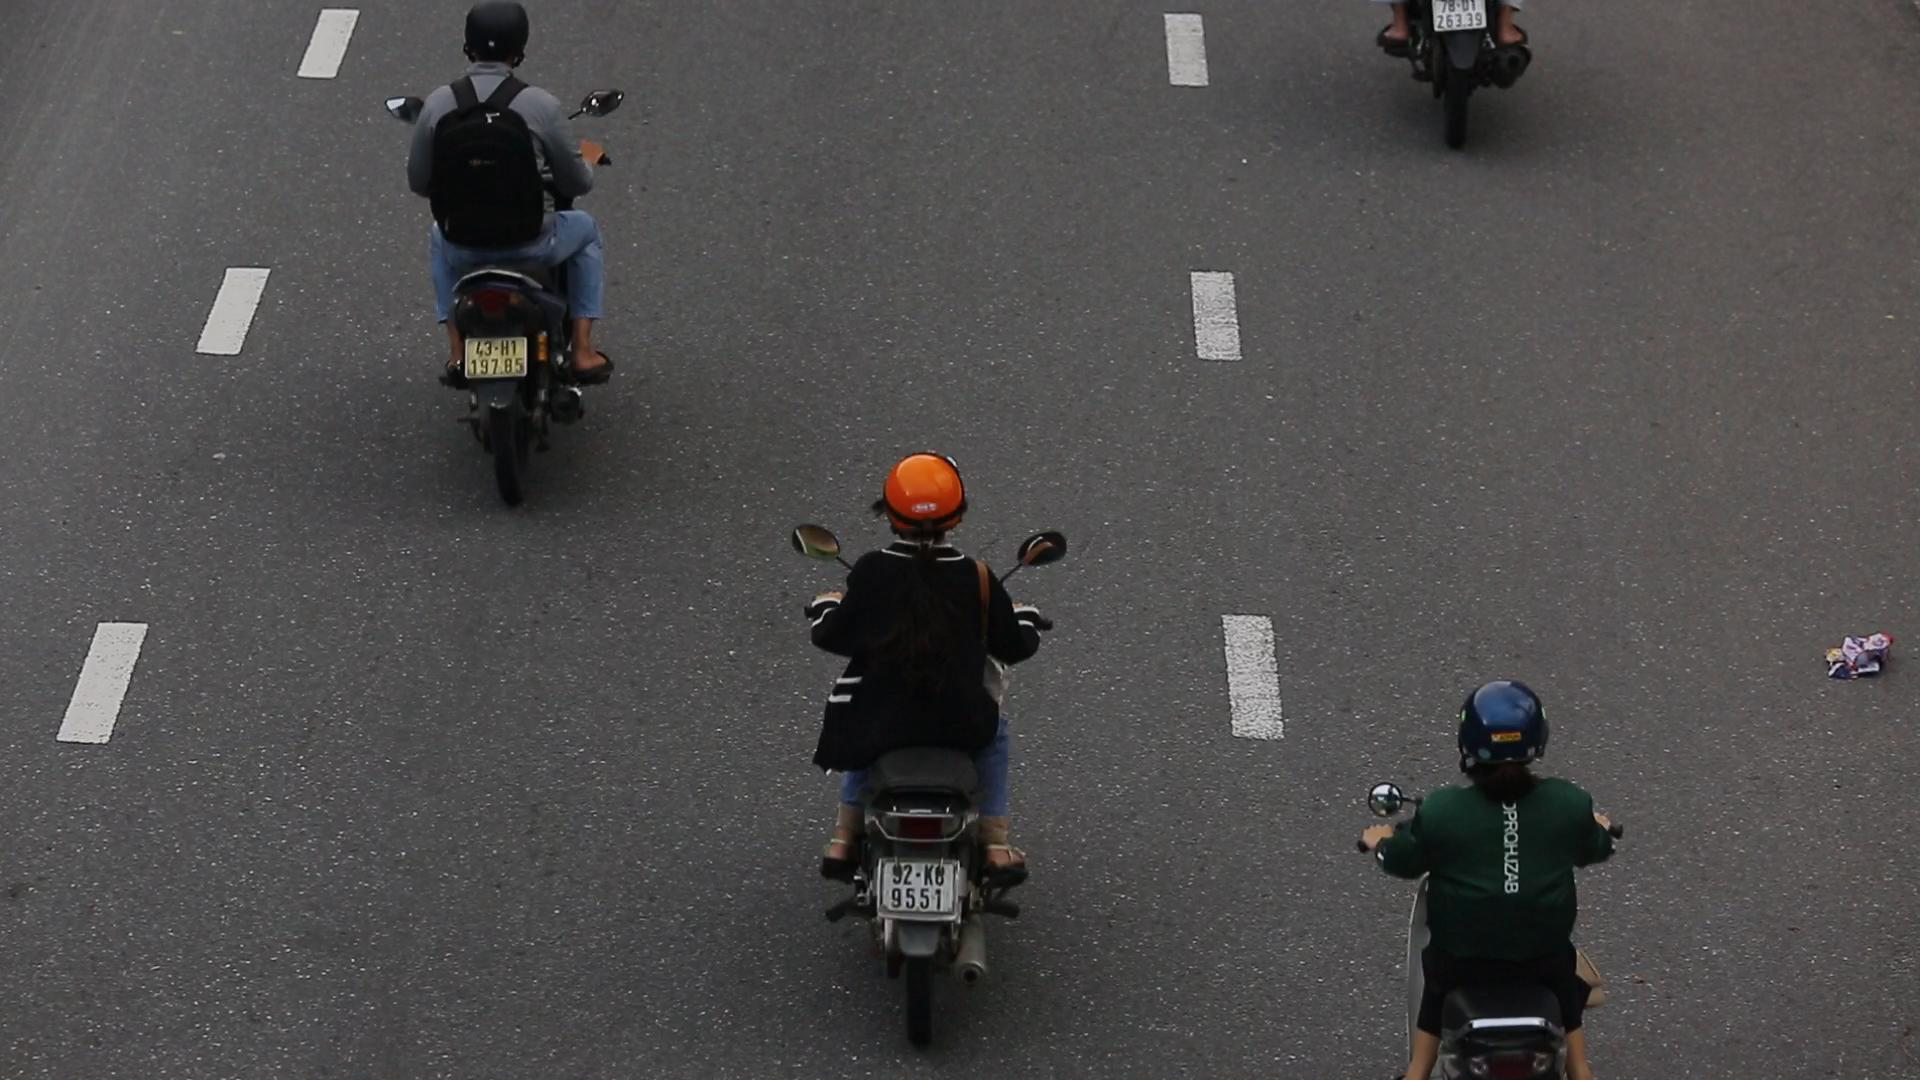motobike: (773, 434, 1077, 1069), (377, 0, 624, 525)
